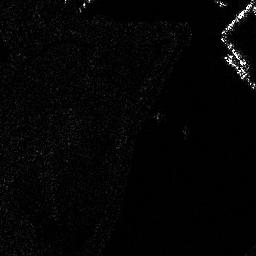ship: (224, 54, 248, 80)
